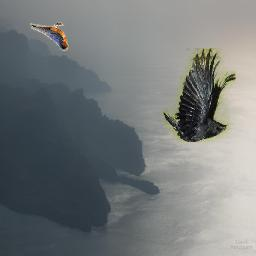Crow: (164, 48, 237, 142)
Swallow: (31, 21, 70, 51)
